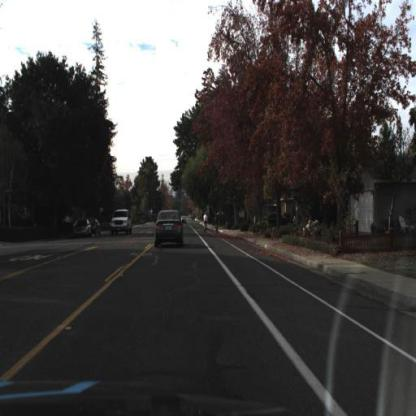biker: (202, 210, 210, 233), (214, 214, 220, 237)
car: (154, 211, 185, 249), (107, 204, 134, 239), (261, 210, 293, 232), (75, 220, 93, 238)
